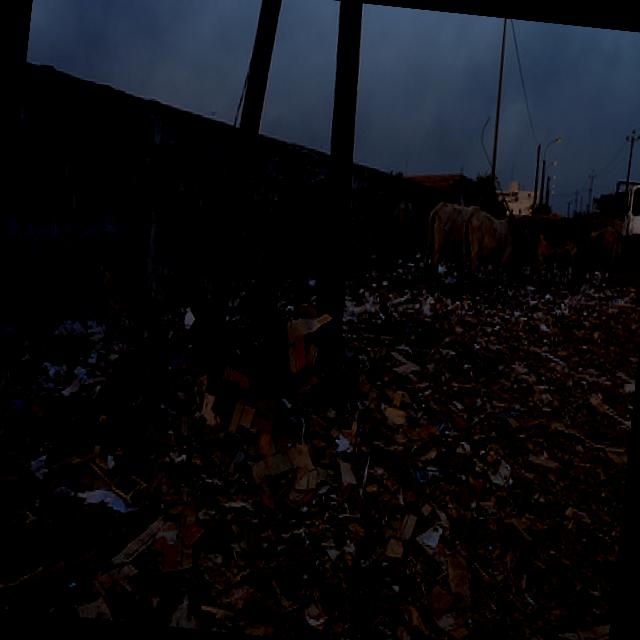Vehicle: (605, 167, 640, 268)
